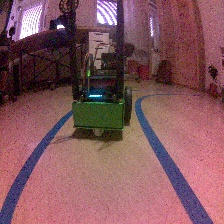rob: (71, 52, 133, 137)
